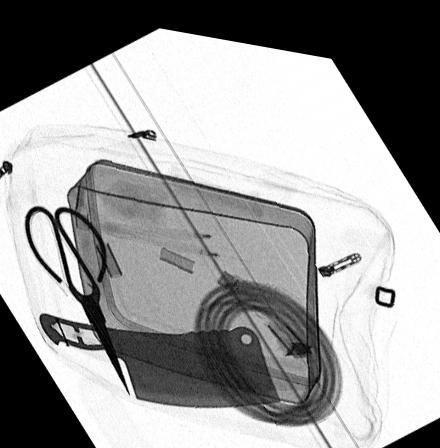Knife: (37, 309, 280, 398)
Scissors: (24, 203, 129, 388)
